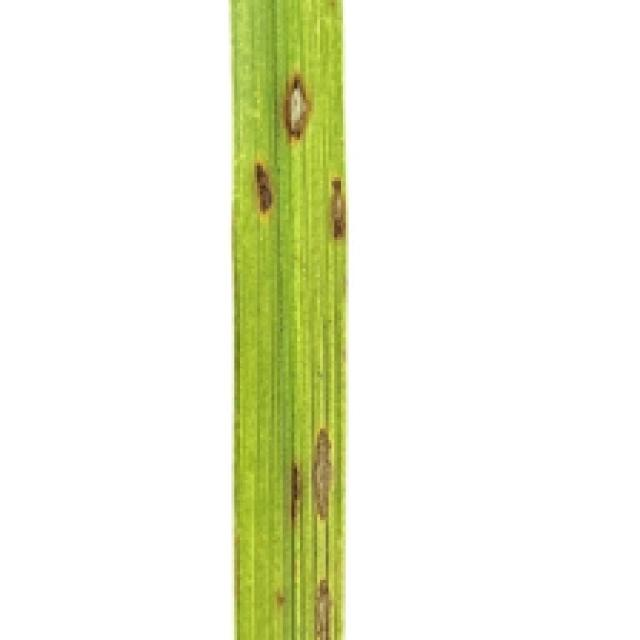Rice___Rice_Blast: (231, 0, 349, 637)
